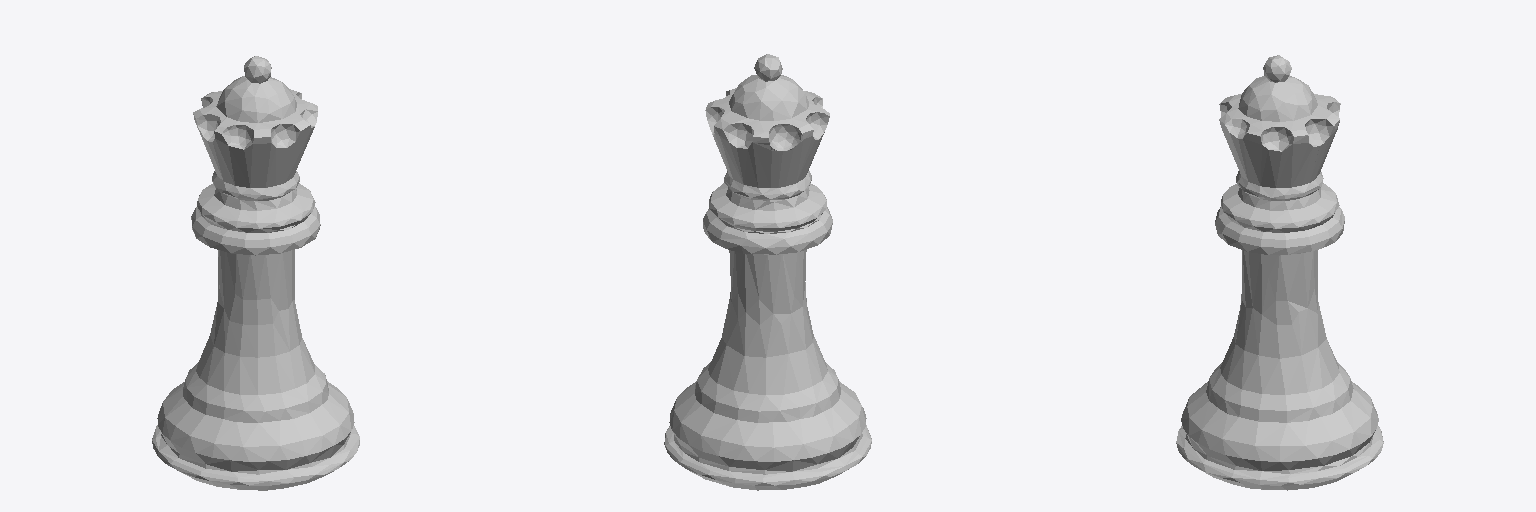
Rendered from Queen.obj.
The picture shows the model from 3 angles: view 1: azimuth 30°, elevation 25°; view 2: azimuth 150°, elevation 25°; view 3: azimuth 270°, elevation 25°; orthographic projection.
Parts seen in each view (by area): view 1: Vert.003; view 2: Vert.003; view 3: Vert.003.
Part boxes in pixels (left/top/right/bottom): Vert.003: left=152, top=56, right=359, bottom=490; Vert.003: left=664, top=54, right=871, bottom=490; Vert.003: left=1176, top=55, right=1383, bottom=490.
Size of the model in its own units: 1.1 by 2.34 by 1.1.